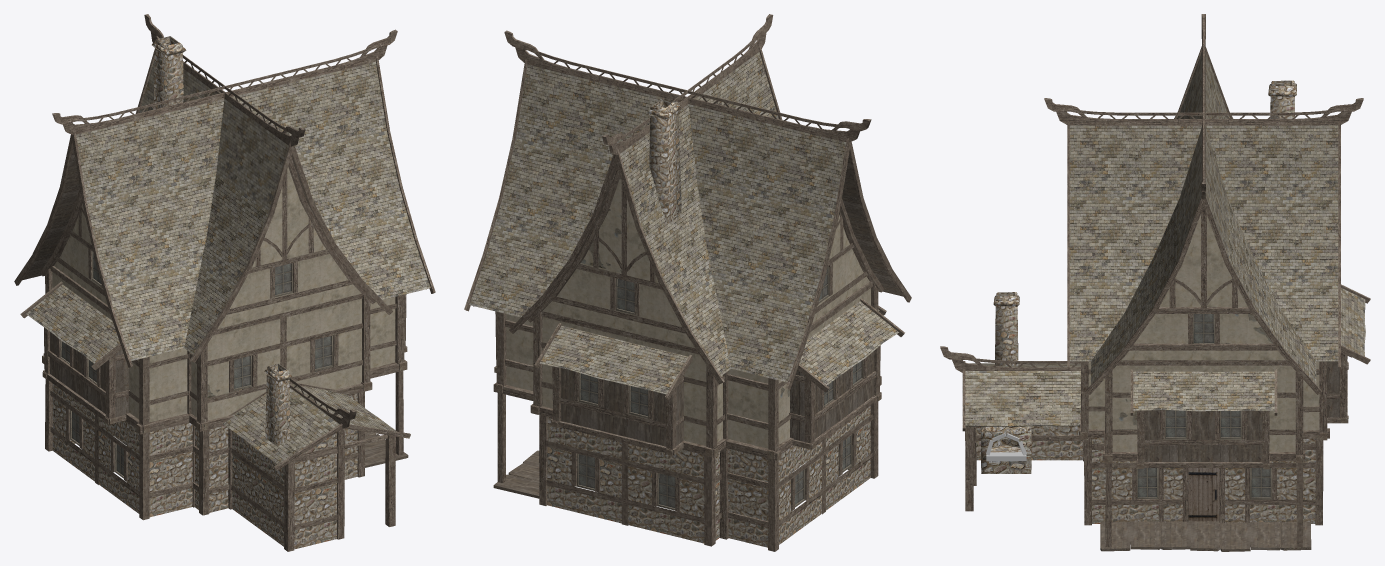
File: mw_type_2_cottage_05_LOD1.FBX
The picture shows the model from 3 angles, left to right: view 1: azimuth 30°, elevation 25°; view 2: azimuth 150°, elevation 25°; view 3: azimuth 270°, elevation 25°; orthographic projection. The views are drawn at different scales.
Visible parts, largest first — view 1: mw_type_2_cottage_building_05_roof, mw_type_2_cottage_building_05_wood, mw_type_2_cottage_building_05_walls001, mw_type_2_cottage_building_05_stone, mw_type_2_cottage_building_05, mw_type_2_cottage_building_05_wood_02; view 2: mw_type_2_cottage_building_05_roof, mw_type_2_cottage_building_05_wood, mw_type_2_cottage_building_05_stone, mw_type_2_cottage_building_05_walls001, mw_type_2_cottage_building_05, mw_type_2_cottage_building_05_wood_02; view 3: mw_type_2_cottage_building_05_roof, mw_type_2_cottage_building_05_wood, mw_type_2_cottage_building_05_stone, mw_type_2_cottage_building_05_walls001, mw_type_2_cottage_building_05_wood_02, mw_type_2_cottage_building_05.
Boxes of the visible parts, bbox=[...] form: mw_type_2_cottage_building_05_roof: bbox=[22, 60, 430, 464]; mw_type_2_cottage_building_05_wood: bbox=[14, 14, 435, 551]; mw_type_2_cottage_building_05_walls001: bbox=[52, 167, 395, 422]; mw_type_2_cottage_building_05_stone: bbox=[52, 36, 357, 549]; mw_type_2_cottage_building_05: bbox=[60, 251, 333, 478]; mw_type_2_cottage_building_05_wood_02: bbox=[365, 432, 408, 467]; mw_type_2_cottage_building_05_roof: bbox=[469, 52, 903, 394]; mw_type_2_cottage_building_05_wood: bbox=[464, 14, 911, 551]; mw_type_2_cottage_building_05_stone: bbox=[547, 97, 870, 547]; mw_type_2_cottage_building_05_walls001: bbox=[506, 177, 870, 448]; mw_type_2_cottage_building_05: bbox=[577, 266, 863, 510]; mw_type_2_cottage_building_05_wood_02: bbox=[493, 450, 539, 498]; mw_type_2_cottage_building_05_roof: bbox=[965, 52, 1365, 426]; mw_type_2_cottage_building_05_wood: bbox=[940, 14, 1370, 547]; mw_type_2_cottage_building_05_stone: bbox=[976, 80, 1315, 523]; mw_type_2_cottage_building_05_walls001: bbox=[1088, 214, 1319, 451]; mw_type_2_cottage_building_05_wood_02: bbox=[1100, 520, 1311, 551]; mw_type_2_cottage_building_05: bbox=[1137, 314, 1272, 522].
Size of the model in its own units: 1742 by 1882 by 1862.
